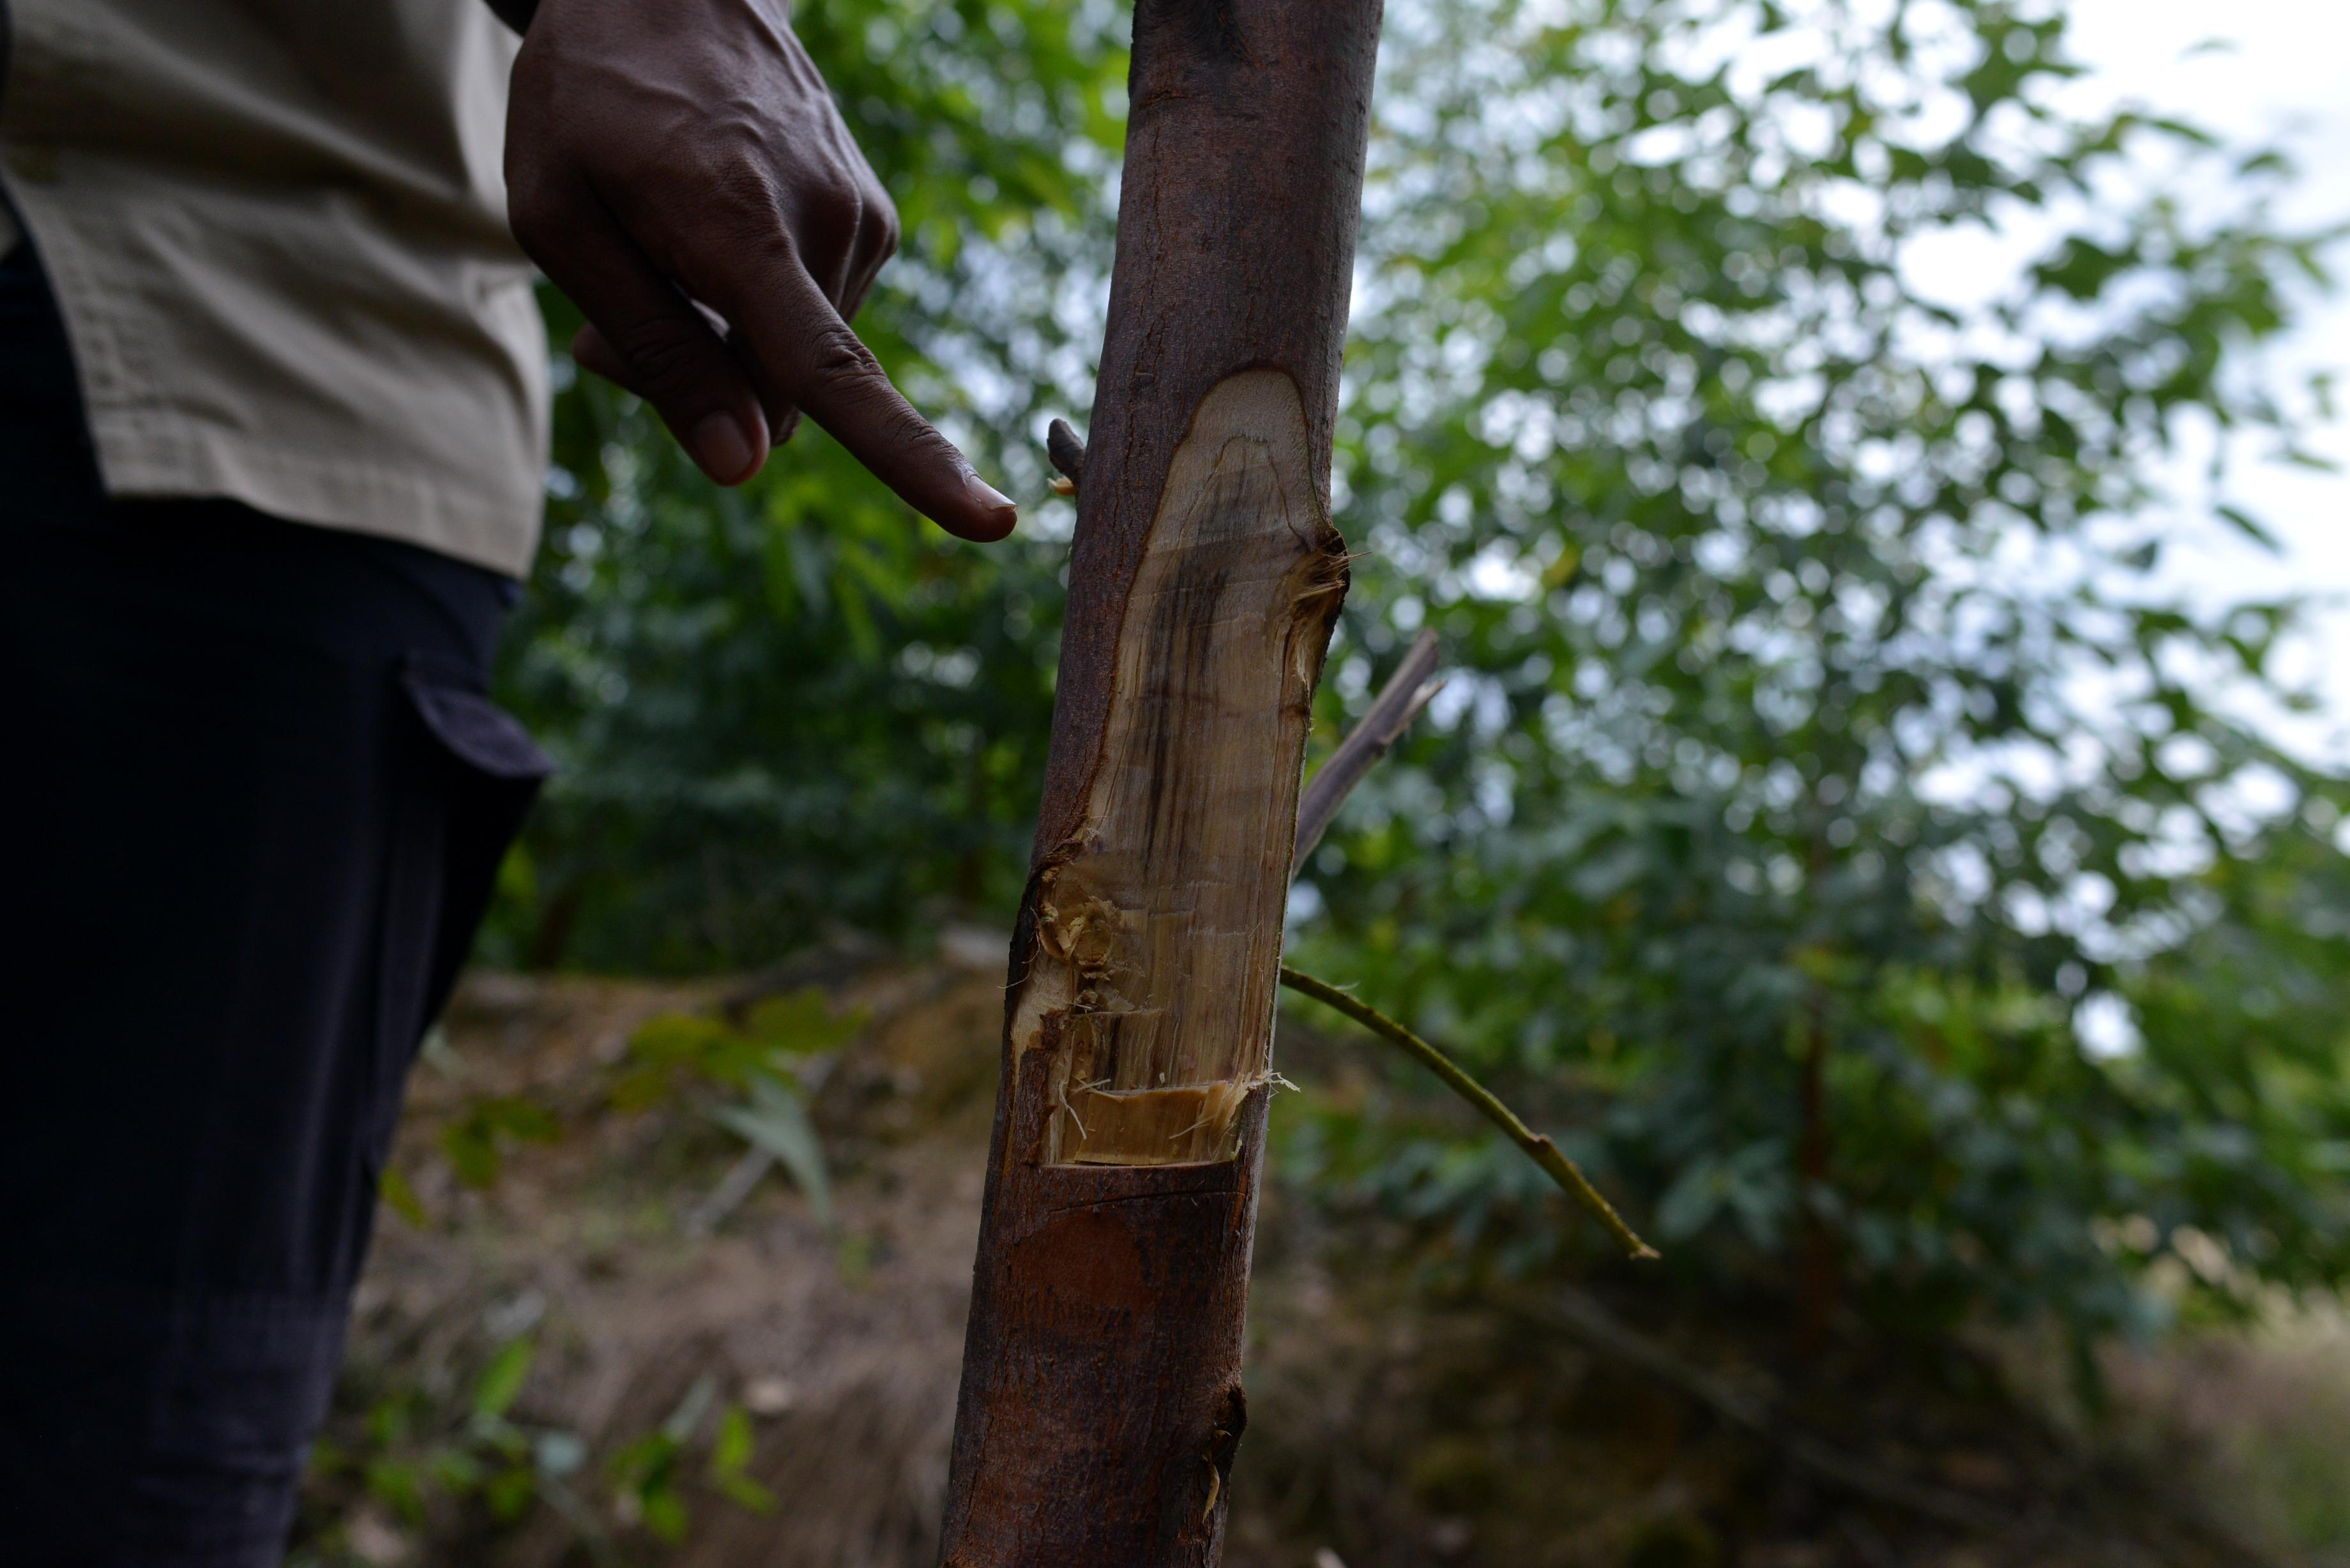Ralstonia: (1077, 345, 1268, 1154)
